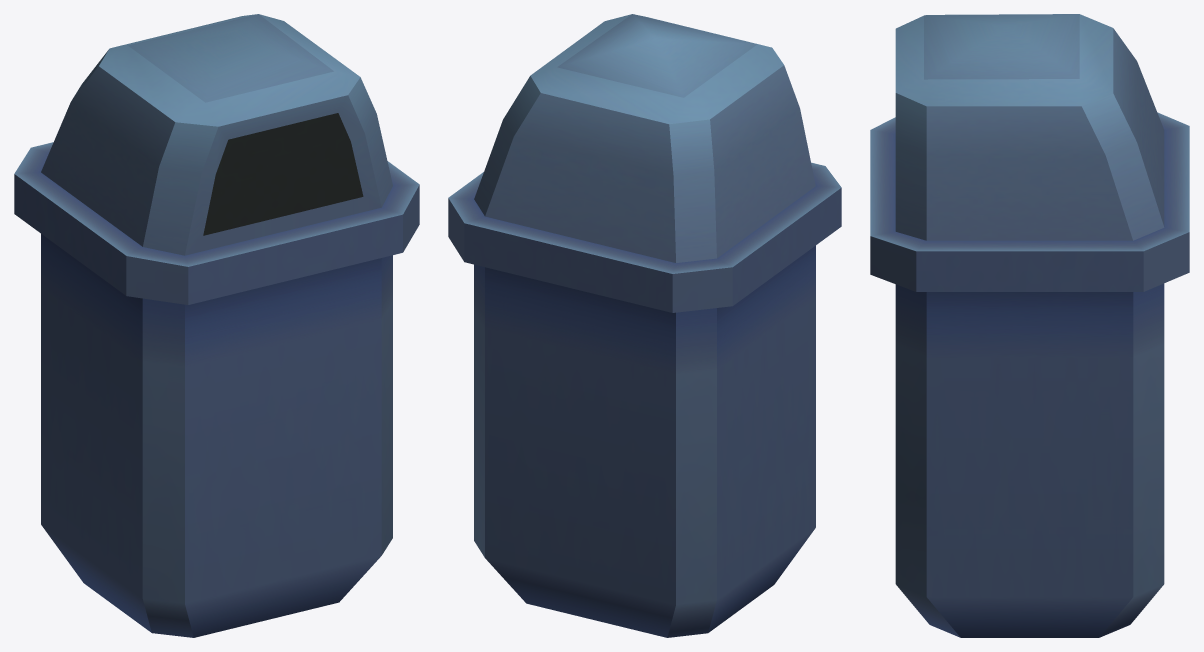
File: backstreet_trashcan.fbx
The picture shows the model from 3 angles, left to right: view 1: azimuth 30°, elevation 25°; view 2: azimuth 150°, elevation 25°; view 3: azimuth 270°, elevation 25°; orthographic projection. The views are drawn at different scales.
Visible parts, largest first — view 1: backstreet_trashcan; view 2: backstreet_trashcan; view 3: backstreet_trashcan.
Part boxes in pixels (bbox=[...]): backstreet_trashcan: bbox=[14, 14, 419, 637]; backstreet_trashcan: bbox=[448, 14, 841, 637]; backstreet_trashcan: bbox=[870, 14, 1189, 637].
Bounding box in the file's own units: 56.01 × 107 × 52.11.
